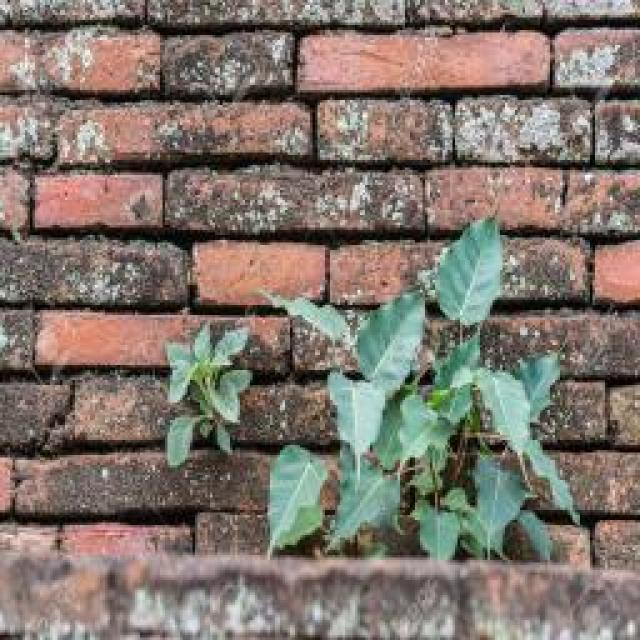Crack: (0, 1, 639, 573)
